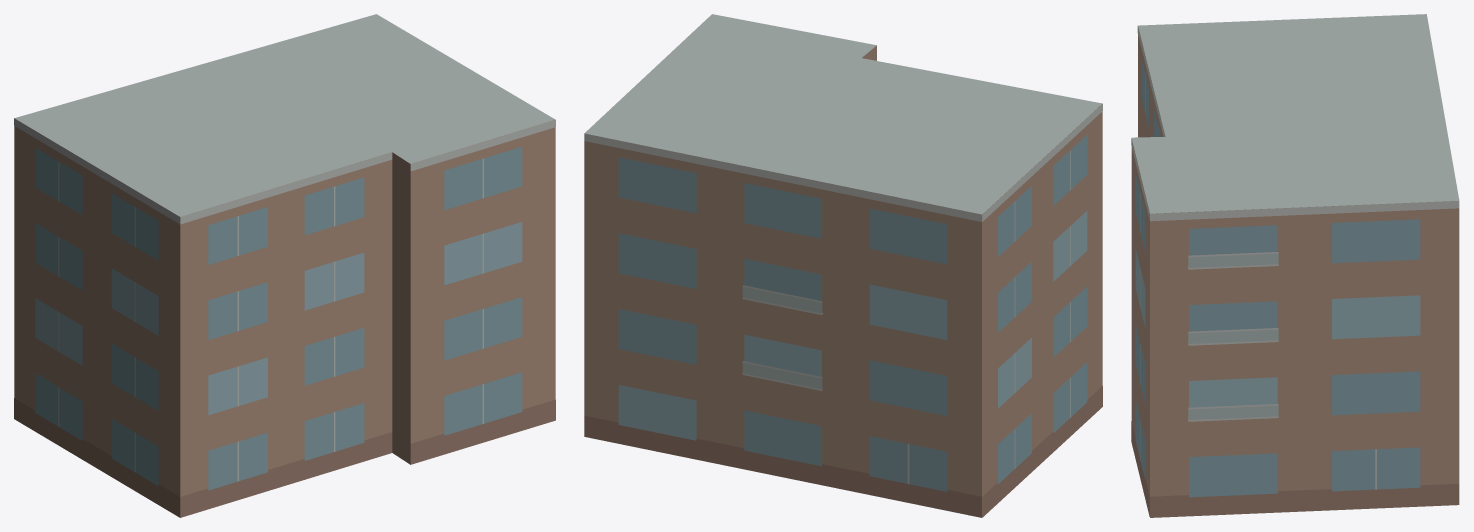
The model's file is survey-upis-32757713.glb.
The picture shows the model from 3 angles, left to right: view 1: azimuth 30°, elevation 25°; view 2: azimuth 150°, elevation 25°; view 3: azimuth 270°, elevation 25°; orthographic projection.
Visible parts, largest first — view 1: survey-upis-32757713.tmp; view 2: survey-upis-32757713.tmp; view 3: survey-upis-32757713.tmp.
Part boxes in pixels (x1,y1,x2,y2): survey-upis-32757713.tmp: (14,14,555,517); survey-upis-32757713.tmp: (584,14,1102,517); survey-upis-32757713.tmp: (1131,14,1459,517).
Bounding box in the file's own units: 13.81 × 9.8 × 9.59.
